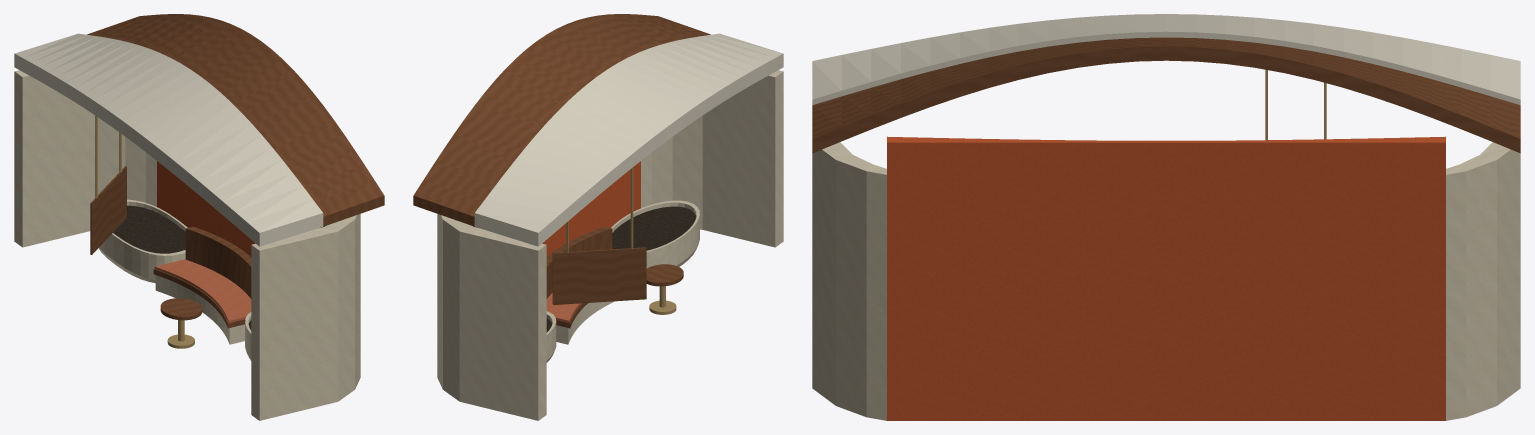
Rendered from AST-AQU-016_east_gallery_rest_bay.glb.
3 views of the same model, side by side, from view 1: azimuth 30°, elevation 25°; view 2: azimuth 150°, elevation 25°; view 3: azimuth 270°, elevation 25° (orthographic). The views are drawn at different scales.
Parts seen in each view (by area): view 1: EAST_Bay_PaleFrontCanopy, EAST_Bay_AftSweptReturn, EAST_Bay_WarmRearCanopy, EAST_Bay_ForeSweptReturn, EAST_Bay_CurvedClayBack, EAST_Bench_WalnutBack, EAST_Bench_ClayUpholstery, EAST_ForeSoilBed_Soil, EAST_ForeSoilBed_Container, EAST_Display_AngledReceiver, EAST_Bench_StonePlinth, EAST_Table_WalnutTop (+1 smaller); view 2: EAST_Bay_PaleFrontCanopy, EAST_Bay_ForeSweptReturn, EAST_Bay_WarmRearCanopy, EAST_Bay_AftSweptReturn, EAST_Display_AngledReceiver, EAST_Bay_CurvedClayBack, EAST_AftSoilBed_Soil, EAST_AftSoilBed_Container, EAST_Bench_WalnutBack, EAST_Table_WalnutTop, EAST_Bench_StonePlinth, EAST_Bench_ClayUpholstery (+1 smaller); view 3: EAST_Bay_CurvedClayBack, EAST_Bay_WarmRearCanopy, EAST_Bay_PaleFrontCanopy, EAST_Bay_AftSweptReturn, EAST_Bay_ForeSweptReturn.
Boxes of the visible parts, <box> form: EAST_Bay_PaleFrontCanopy: <box>14,33,323,246</box>; EAST_Bay_AftSweptReturn: <box>251,214,360,420</box>; EAST_Bay_WarmRearCanopy: <box>87,14,384,226</box>; EAST_Bay_ForeSweptReturn: <box>14,70,156,247</box>; EAST_Bay_CurvedClayBack: <box>157,161,325,256</box>; EAST_Bench_WalnutBack: <box>185,226,251,298</box>; EAST_Bench_ClayUpholstery: <box>154,259,251,323</box>; EAST_ForeSoilBed_Soil: <box>113,205,185,253</box>; EAST_ForeSoilBed_Container: <box>98,199,187,283</box>; EAST_Display_AngledReceiver: <box>90,166,126,254</box>; EAST_Bench_StonePlinth: <box>155,275,244,344</box>; EAST_Table_WalnutTop: <box>160,298,202,320</box>; EAST_Bay_PaleFrontCanopy: <box>474,33,783,246</box>; EAST_Bay_ForeSweptReturn: <box>437,214,546,420</box>; EAST_Bay_WarmRearCanopy: <box>413,14,710,226</box>; EAST_Bay_AftSweptReturn: <box>641,70,783,247</box>; EAST_Display_AngledReceiver: <box>552,247,646,304</box>; EAST_Bay_CurvedClayBack: <box>472,161,640,256</box>; EAST_AftSoilBed_Soil: <box>612,206,696,250</box>; EAST_AftSoilBed_Container: <box>611,200,699,268</box>; EAST_Bench_WalnutBack: <box>546,226,612,298</box>; EAST_Table_WalnutTop: <box>646,264,683,286</box>; EAST_Bench_StonePlinth: <box>556,301,614,344</box>; EAST_Bench_ClayUpholstery: <box>546,293,581,323</box>; EAST_Bay_CurvedClayBack: <box>887,136,1445,420</box>; EAST_Bay_WarmRearCanopy: <box>812,37,1520,153</box>; EAST_Bay_PaleFrontCanopy: <box>812,14,1520,104</box>; EAST_Bay_AftSweptReturn: <box>812,142,886,420</box>; EAST_Bay_ForeSweptReturn: <box>1446,142,1520,420</box>.
Size of the model in its own units: 3 by 5.25 by 9.
Materials: 8 (7 with a texture image).
